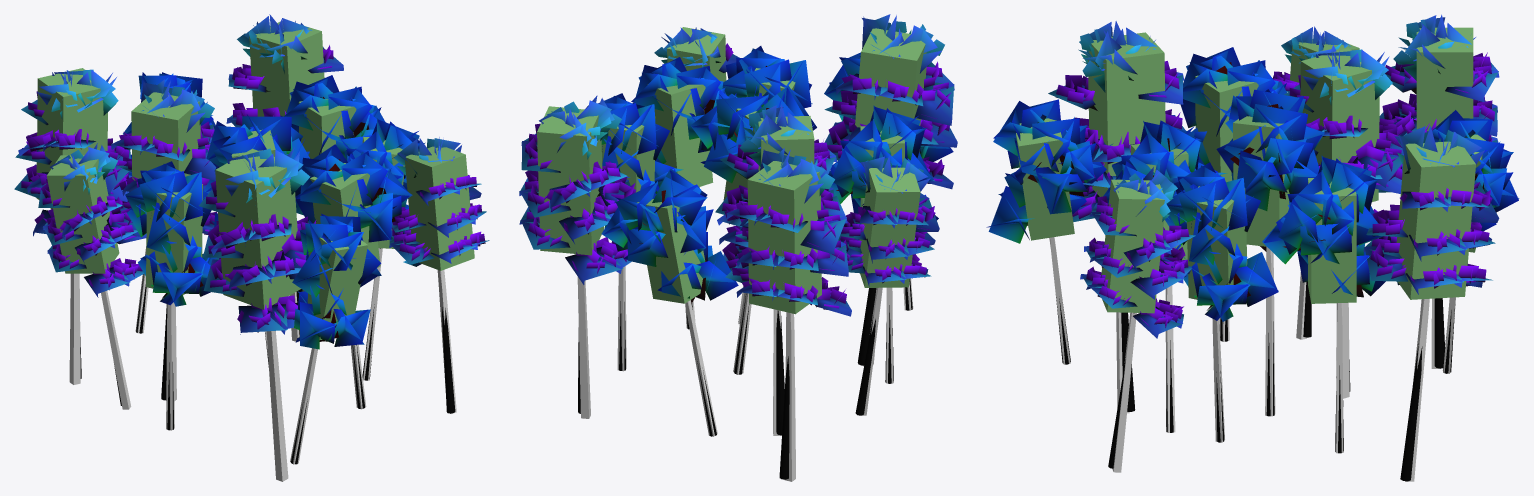
Rendered from forest_mix.dae.
The picture shows the model from 3 angles, left to right: view 1: azimuth 30°, elevation 25°; view 2: azimuth 150°, elevation 25°; view 3: azimuth 270°, elevation 25°; orthographic projection. The views are drawn at different scales.
Visible parts, largest first — view 1: forest_mix_a1300, Colmesh-1; view 2: forest_mix_a1300, Colmesh-1; view 3: forest_mix_a1300, Colmesh-1.
Part boxes in pixels (box(x1,y1,x2,y2)): forest_mix_a1300: box(14, 14, 489, 464); Colmesh-1: box(36, 22, 474, 481); forest_mix_a1300: box(519, 14, 957, 479); Colmesh-1: box(537, 27, 926, 481); forest_mix_a1300: box(986, 14, 1519, 481); Colmesh-1: box(1016, 27, 1485, 481).
Bounding box in the file's own units: 22.66 × 26.58 × 20.56.
